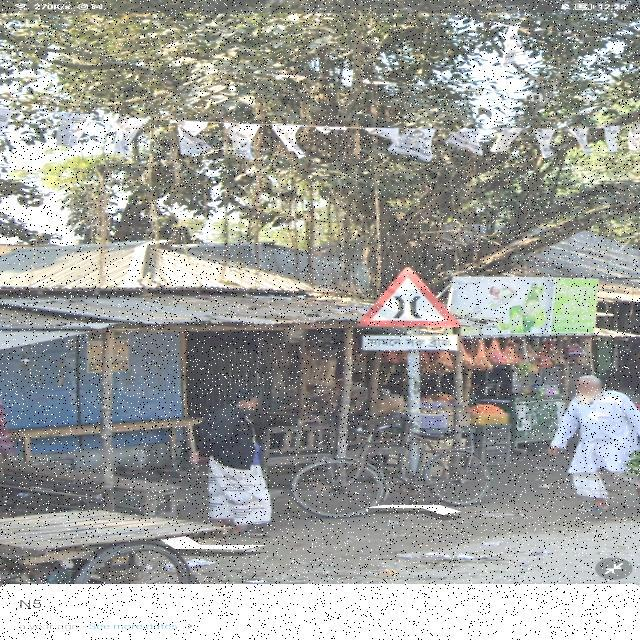Ahead-of-the-bridge: (349, 260, 485, 374)
